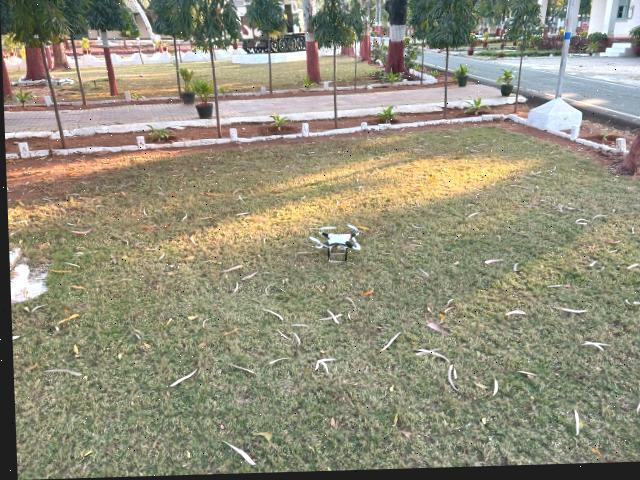drone: (292, 210, 379, 274)
